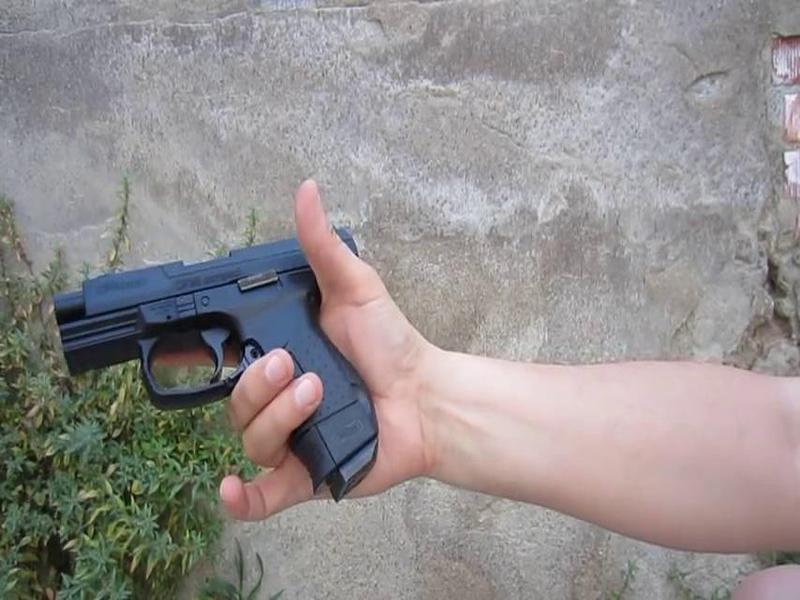Pistola: (45, 183, 376, 543)
